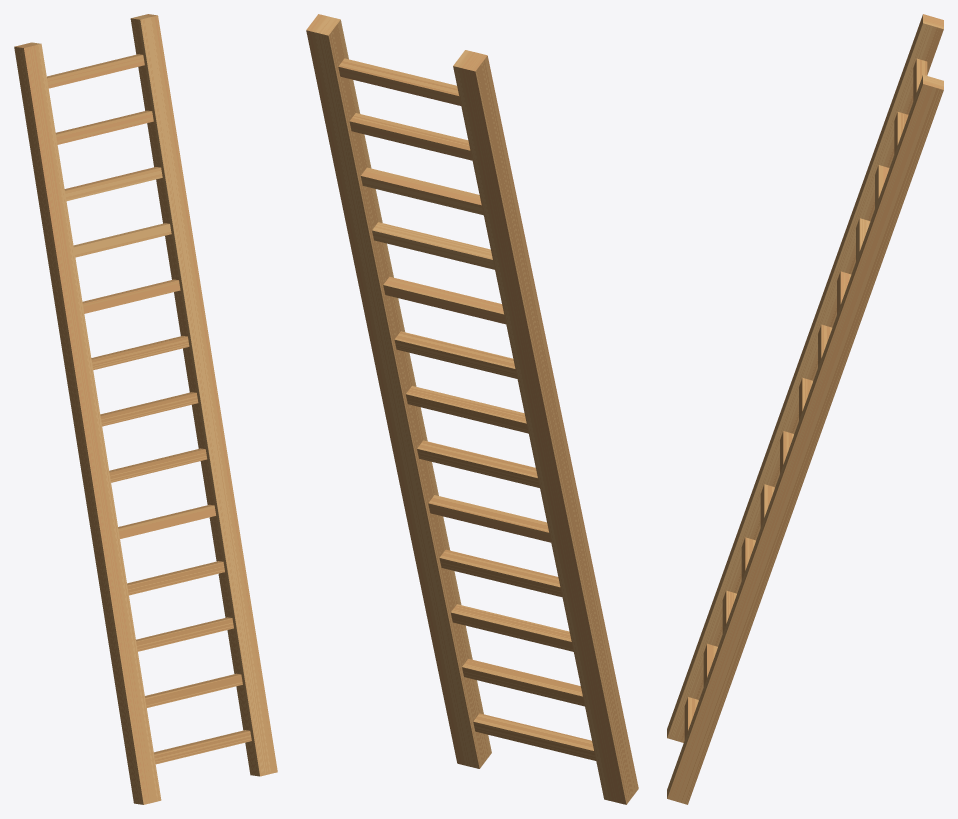
File: ladder.fbx
3 renders of one model, left to right at view 1: azimuth 30°, elevation 25°; view 2: azimuth 150°, elevation 25°; view 3: azimuth 270°, elevation 25°, orthographic. The views are drawn at different scales.
Visible parts, largest first — view 1: ladder; view 2: ladder; view 3: ladder.
Part boxes in pixels (x1,y1,x2,y2): ladder: (14,14,277,804); ladder: (306,14,638,804); ladder: (667,14,943,804).
Size of the model in its own units: 2.68 by 12.89 by 4.49.
